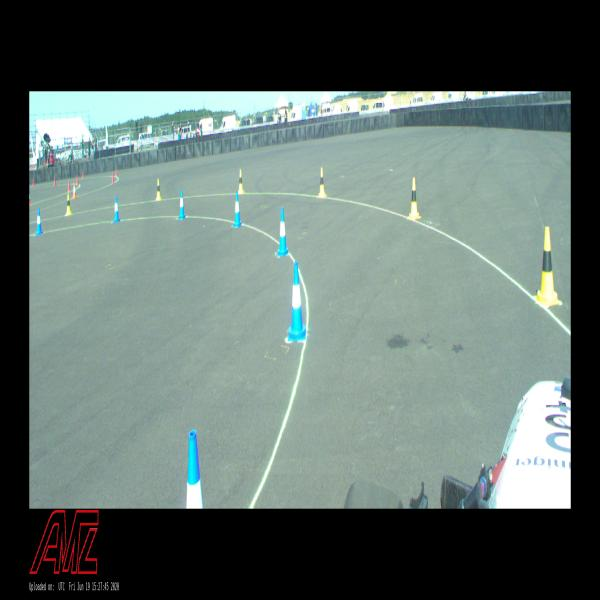blue_cone: (288, 261, 306, 340), (186, 430, 204, 508), (277, 208, 289, 255), (232, 192, 242, 227), (177, 190, 186, 219), (113, 196, 121, 223), (35, 208, 43, 234)
orange_cone: (72, 183, 77, 199), (30, 192, 31, 205)
yellow_cone: (533, 227, 561, 305), (408, 178, 421, 220), (318, 168, 327, 196), (238, 169, 245, 194), (65, 194, 72, 216), (156, 179, 162, 200)
